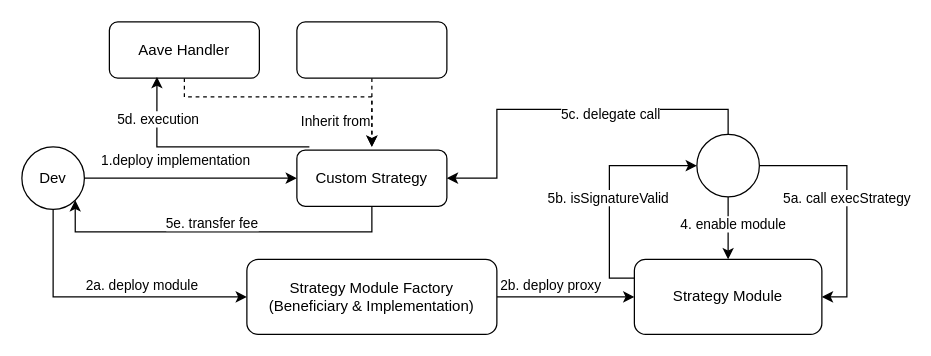
Image size: 931x356. Some labels were removed from this diagram. The box of each missing label's shape, as (x1, y1, x2, y2) in pixels:
Base Handler: (296, 21, 447, 78)
User SA: (696, 133, 759, 197)
